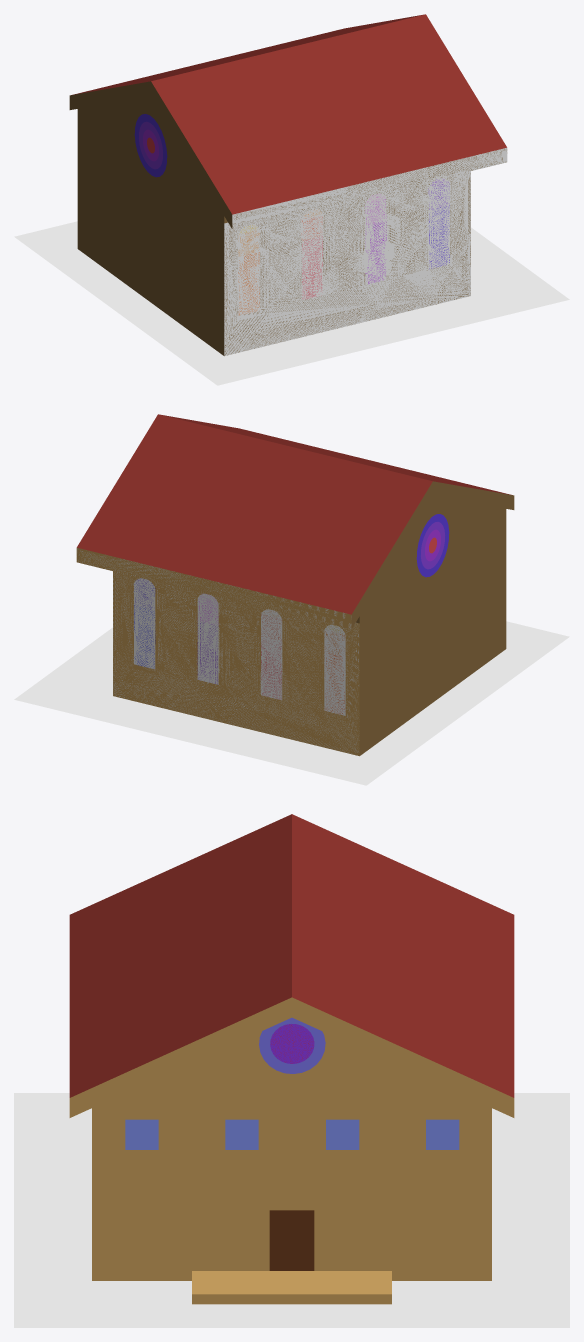
File: simplehouse3.dae
3 views of the same model, one above another, from view 1: azimuth 30°, elevation 25°; view 2: azimuth 150°, elevation 25°; view 3: azimuth 270°, elevation 25° (orthographic). The views are drawn at different scales.
Parts seen in each view (by area): view 1: SketchUp (×13); view 2: SketchUp (×14); view 3: SketchUp (×10).
Part boxes in pixels (x1,y1,x2,y2): SketchUp (×13): (14, 14, 569, 385); SketchUp (×14): (14, 414, 569, 785); SketchUp (×10): (14, 814, 569, 1327).
Bounding box in the file's own units: 19.69 × 19.69 × 11.81.
